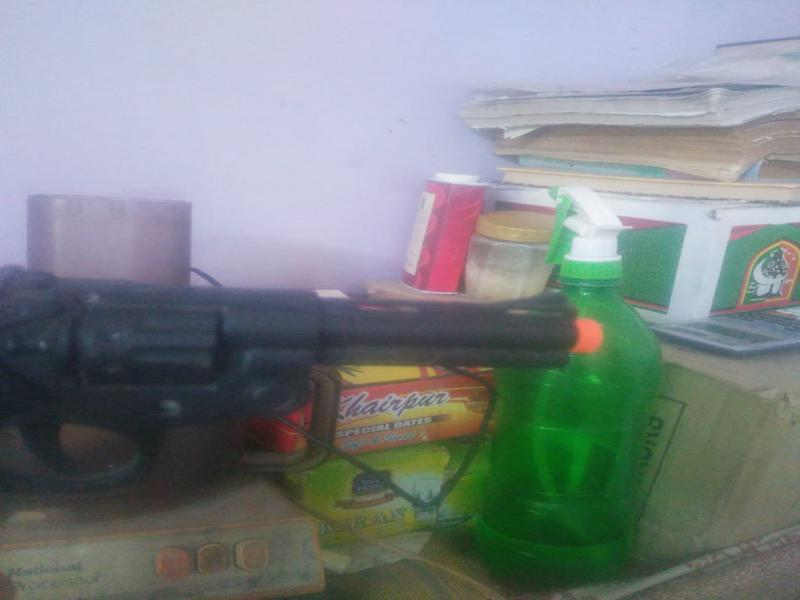gun: (12, 238, 647, 537)
